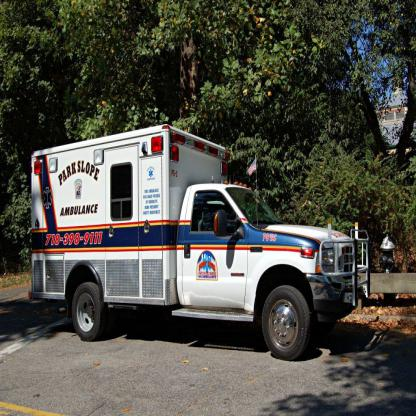Ambulance: (28, 124, 370, 360)
Truck: (29, 124, 370, 360)
